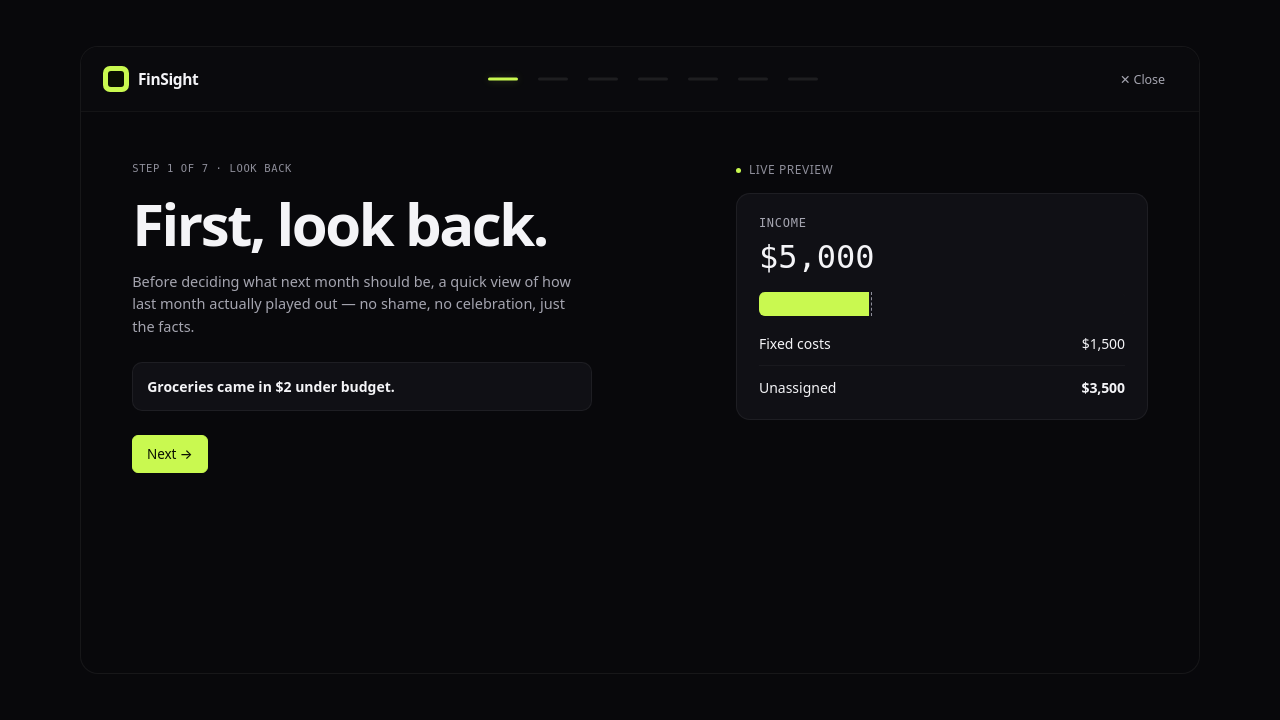
Test: PlanNextMonthModal › updates the live preview's Unassigned total as fixed-cost amounts are entered
Expected: the text "$5,000" is shown, x1=759 y1=238 x2=874 y2=276
Click the button "Next →" at (170, 454), box x1=132 y1=435 x2=208 y2=473
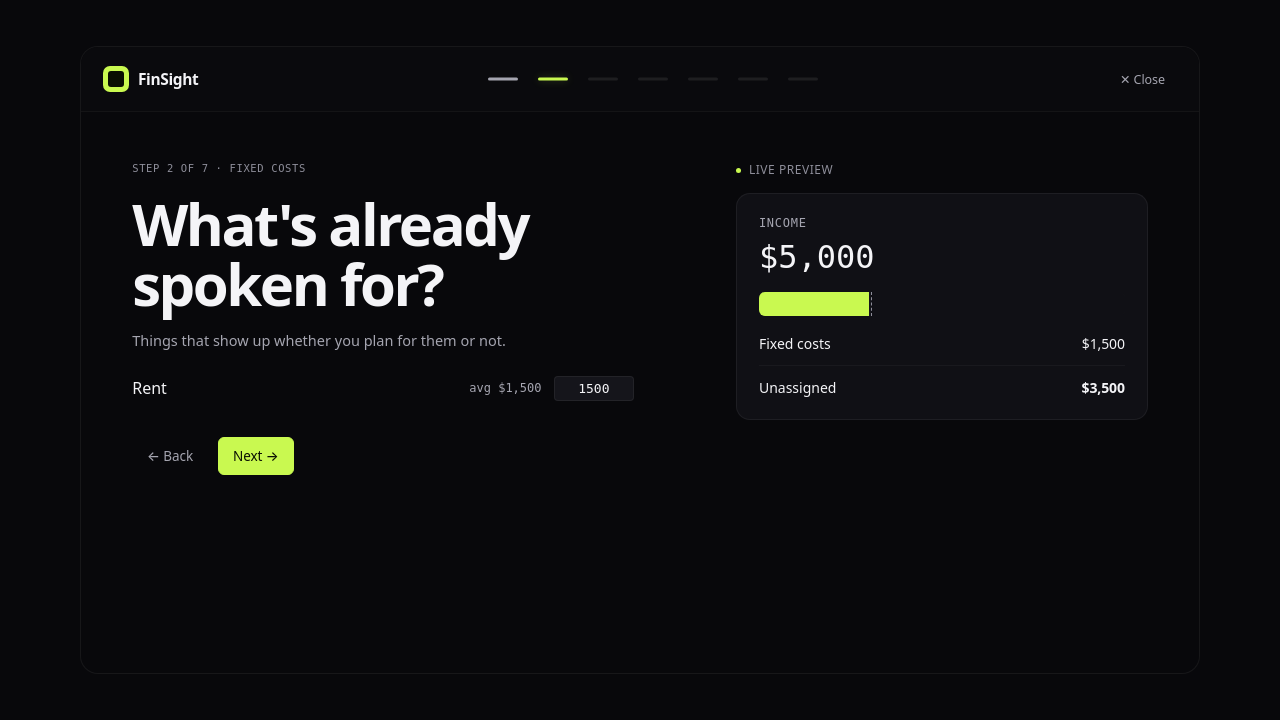
Replace the text in the number field showing "1500" with "2000" at (594, 388), box x1=554 y1=376 x2=634 y2=401
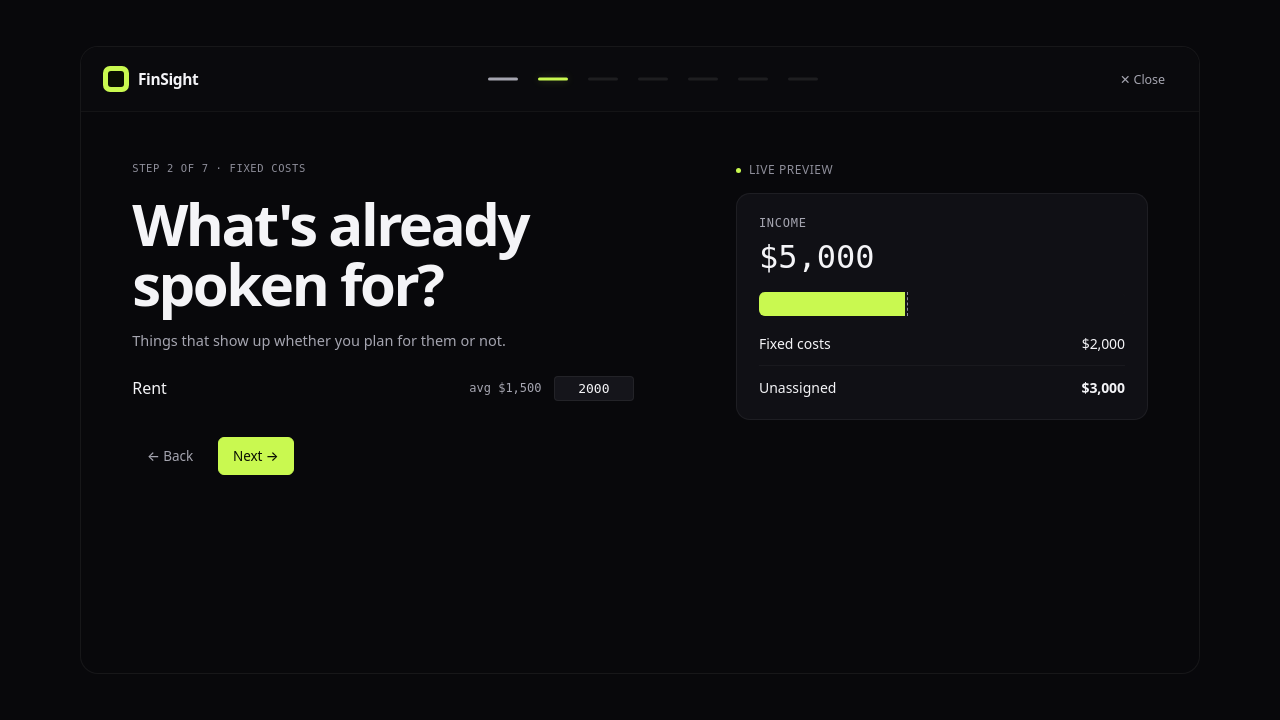
Expected: the text "Unassigned" is shown, x1=759 y1=378 x2=836 y2=397
Expected: the text "$3,000" is shown, x1=1082 y1=378 x2=1125 y2=397
